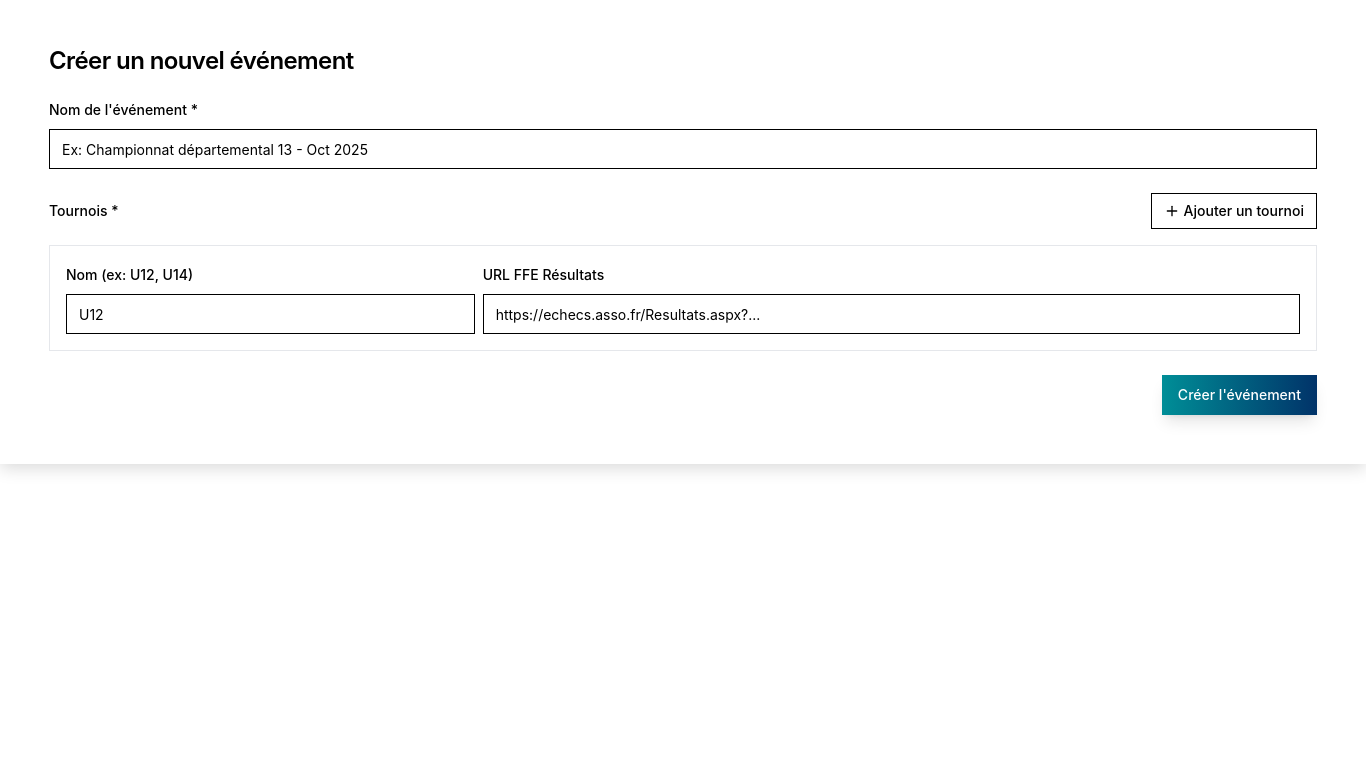
EventForm › Tournament Management › removes tournament when remove button is clicked
The width and height of the screenshot is (1366, 768).
Note: Add a second tournament
Click the button "Ajouter un tournoi" at (1234, 211), box top-left (1151, 193), bottom-right (1317, 229)
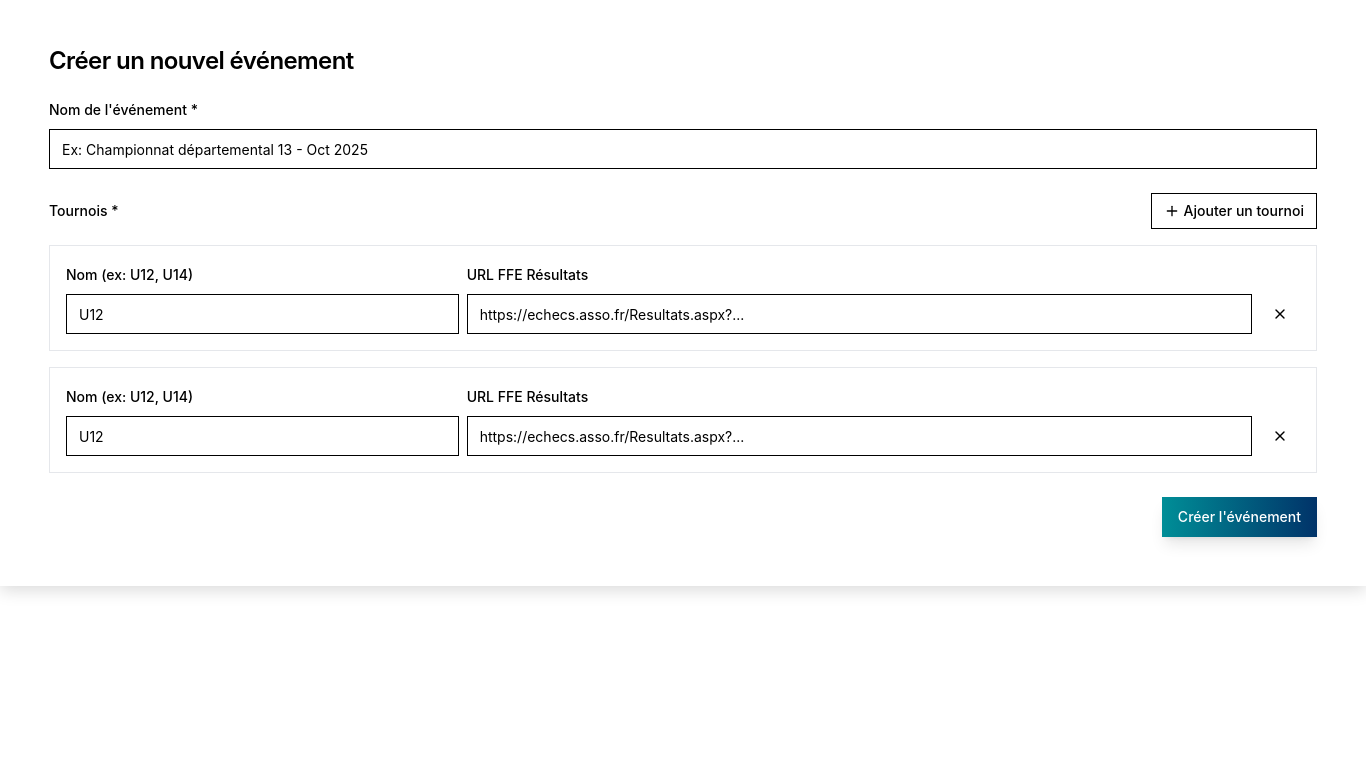
Now the number of fields labelled "Nom (ex: U12, U14)" is 2, box top-left (66, 294), bottom-right (459, 334); top-left (66, 416), bottom-right (459, 456)
Note: Click the first remove button
Click the 2nd button at (1280, 314), box top-left (1260, 294), bottom-right (1300, 334)
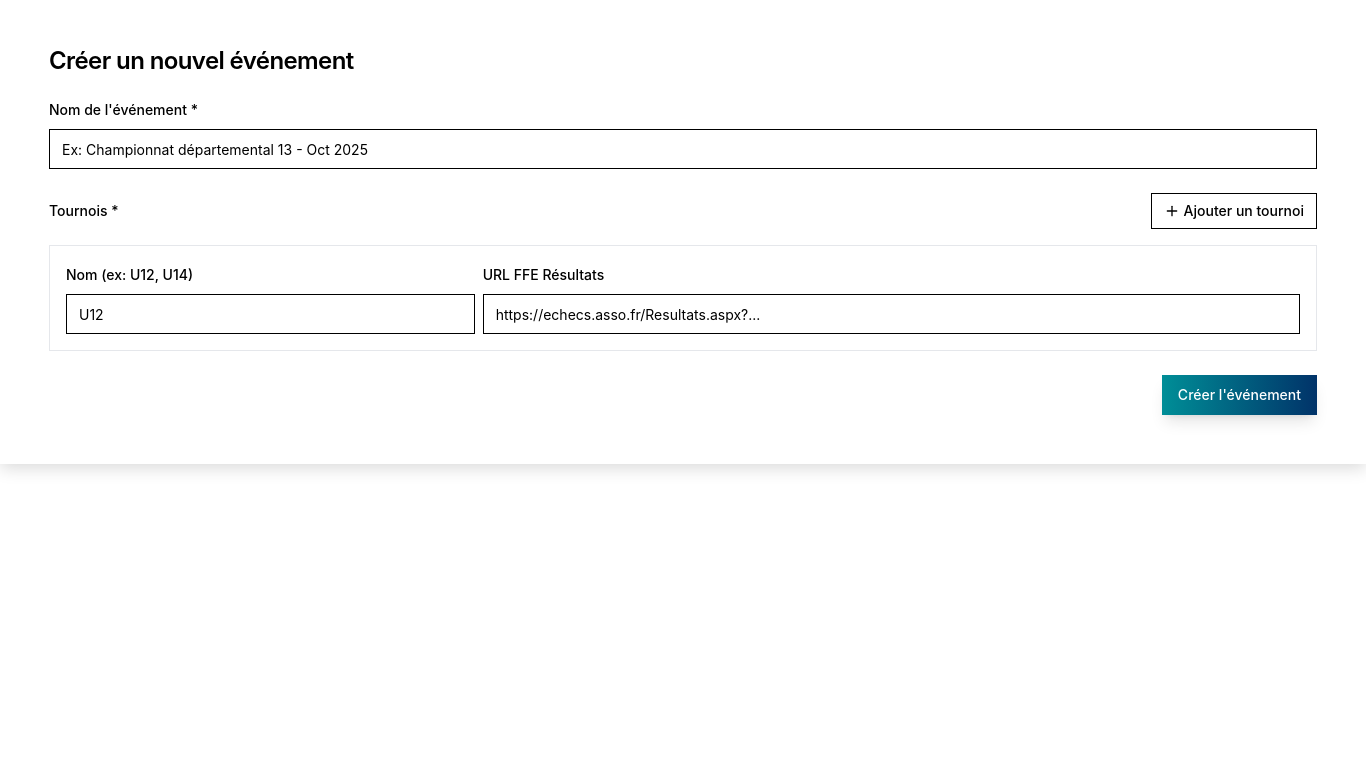
Now the number of fields labelled "Nom (ex: U12, U14)" is 1, box top-left (66, 294), bottom-right (475, 334)
